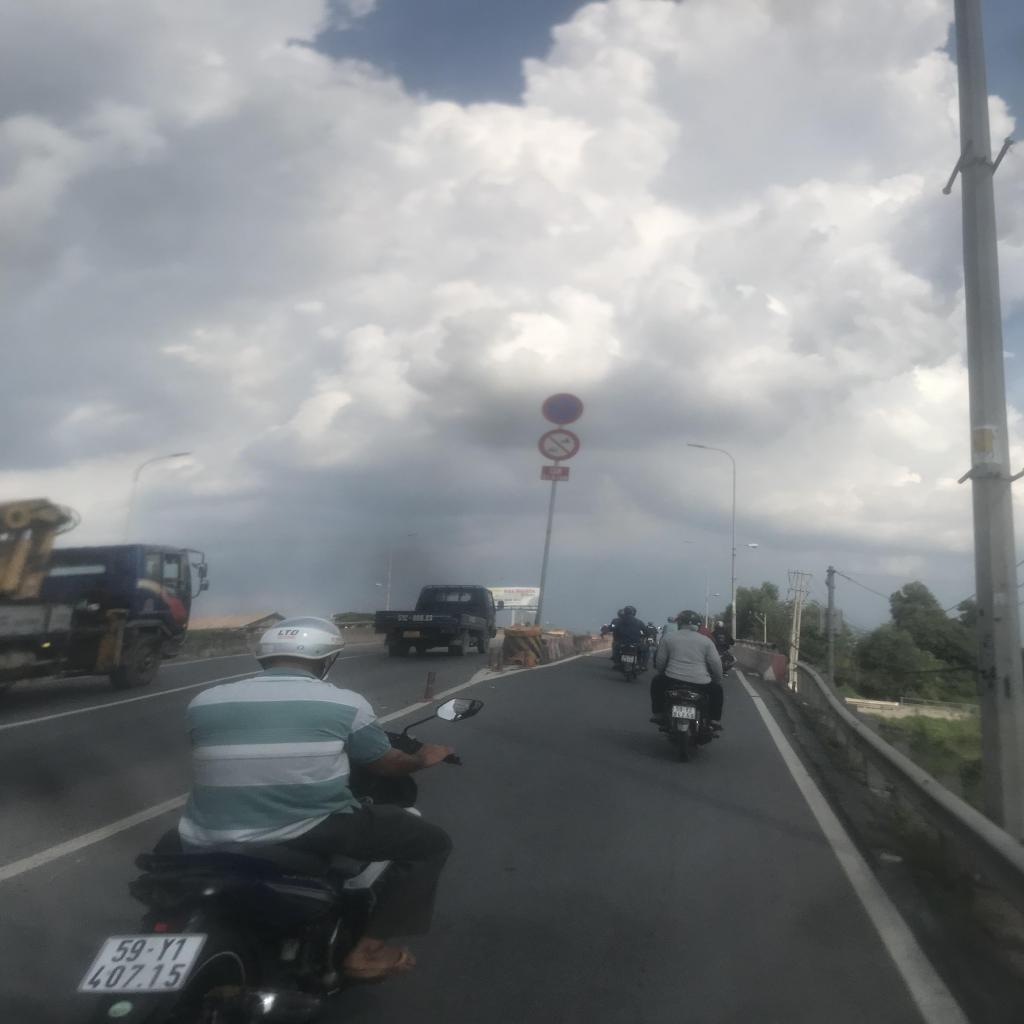cam_dung_xe_va_do_xe: (542, 393, 582, 425)
cam_xe_2_banh_va_xe_3_banh_co_dong_co: (538, 429, 581, 462)
